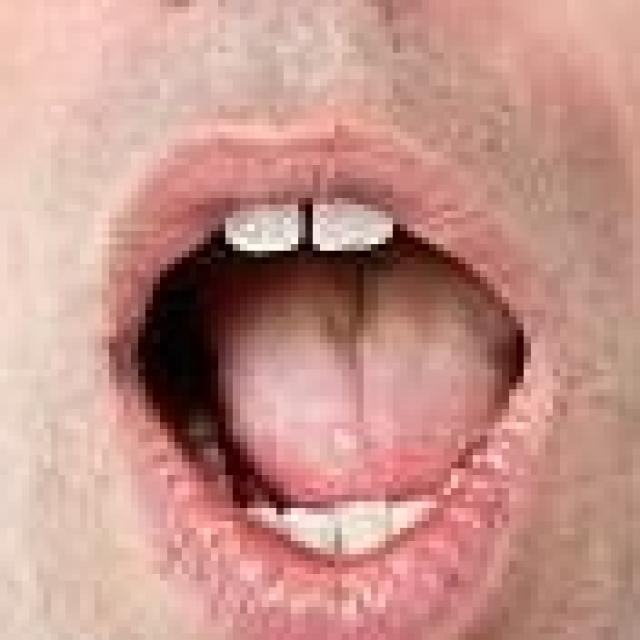open-mouth: (94, 112, 560, 634)
